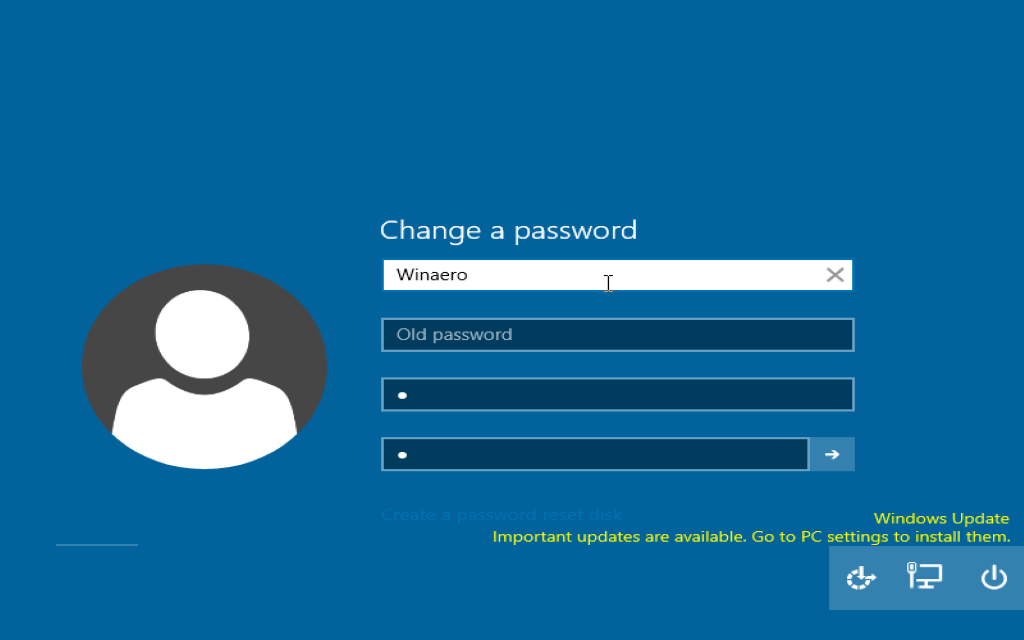button: (808, 439, 855, 472)
textbox: (383, 377, 855, 410), (384, 320, 853, 350), (383, 438, 809, 471), (382, 260, 822, 291)
